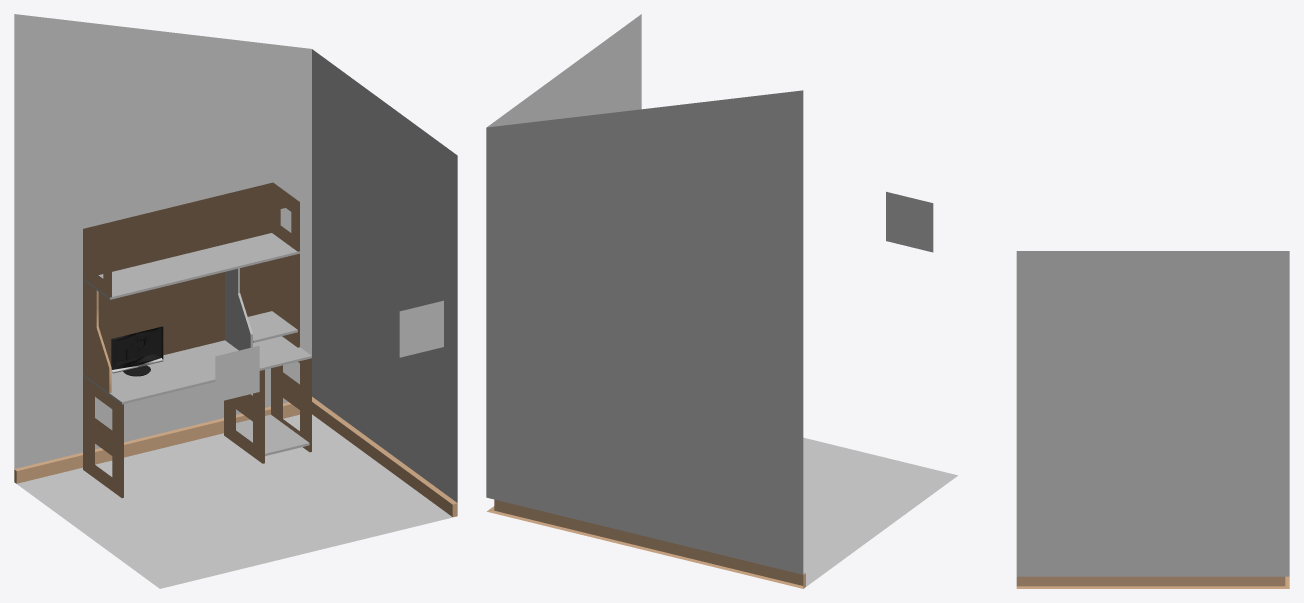
File: DESK2.dae
The picture shows the model from 3 angles, left to right: view 1: azimuth 30°, elevation 25°; view 2: azimuth 150°, elevation 25°; view 3: azimuth 270°, elevation 25°; orthographic projection. The views are drawn at different scales.
Visible parts, largest first — view 1: walls, floor, Cube_002, Cube_006, LIGTH, base_monitor_001; view 2: walls, floor, LIGTH; view 3: walls.
Part boxes in pixels (x1,y1,x2,y2): walls: (14,14,457,516); floor: (16,414,455,588); Cube_002: (83,182,311,497); Cube_006: (83,233,311,455); LIGTH: (215,300,443,402); base_monitor_001: (111,326,163,376); walls: (486,14,805,588); floor: (803,437,957,587); LIGTH: (886,191,933,252); walls: (1016,251,1289,588).
Size of the model in its own units: 26.62 by 25.01 by 40.03.
